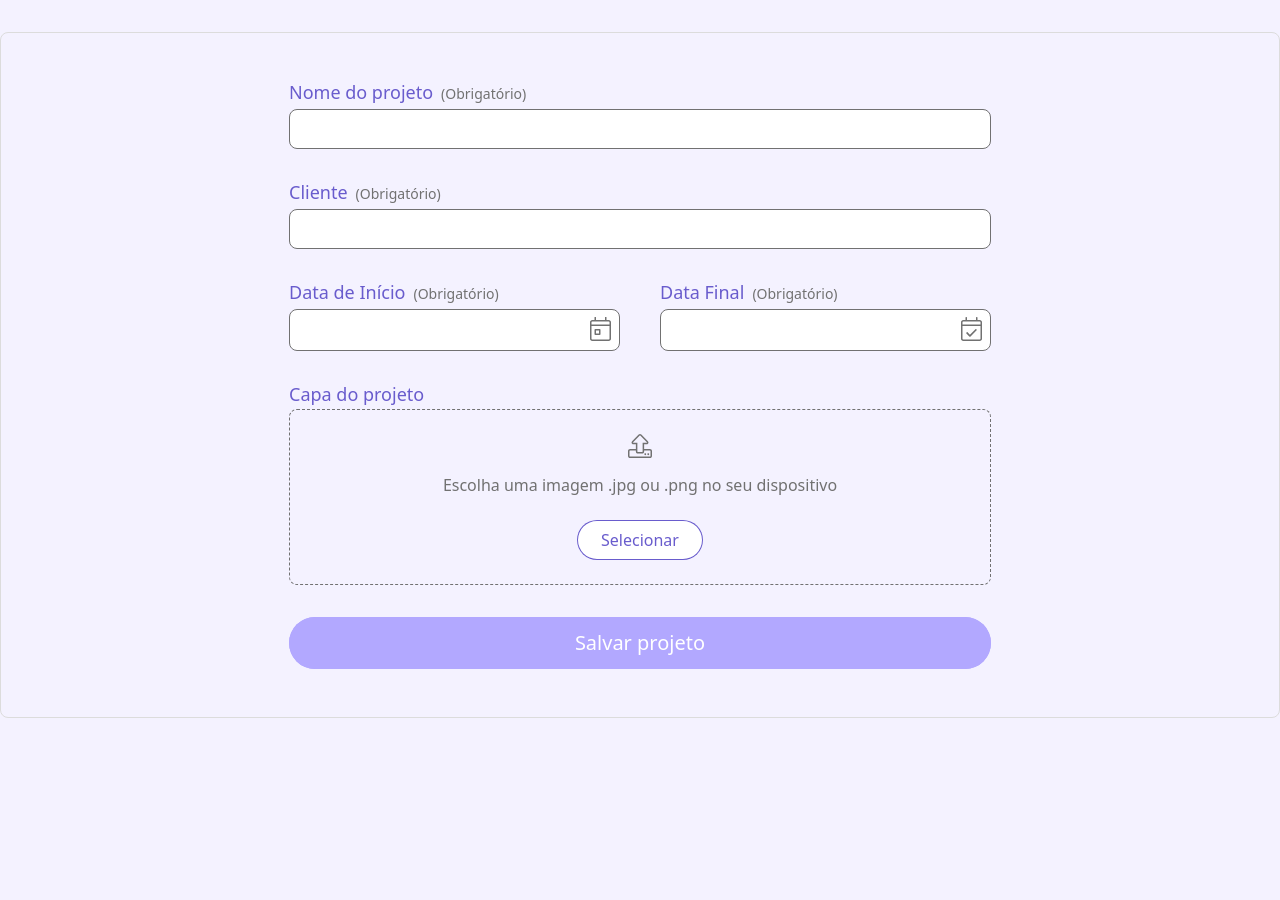
Test: ProjectForm - validation › refuses a single-word name
Type "Loja" into the field named "name". click: (640, 129)
box: [289,109,991,149]
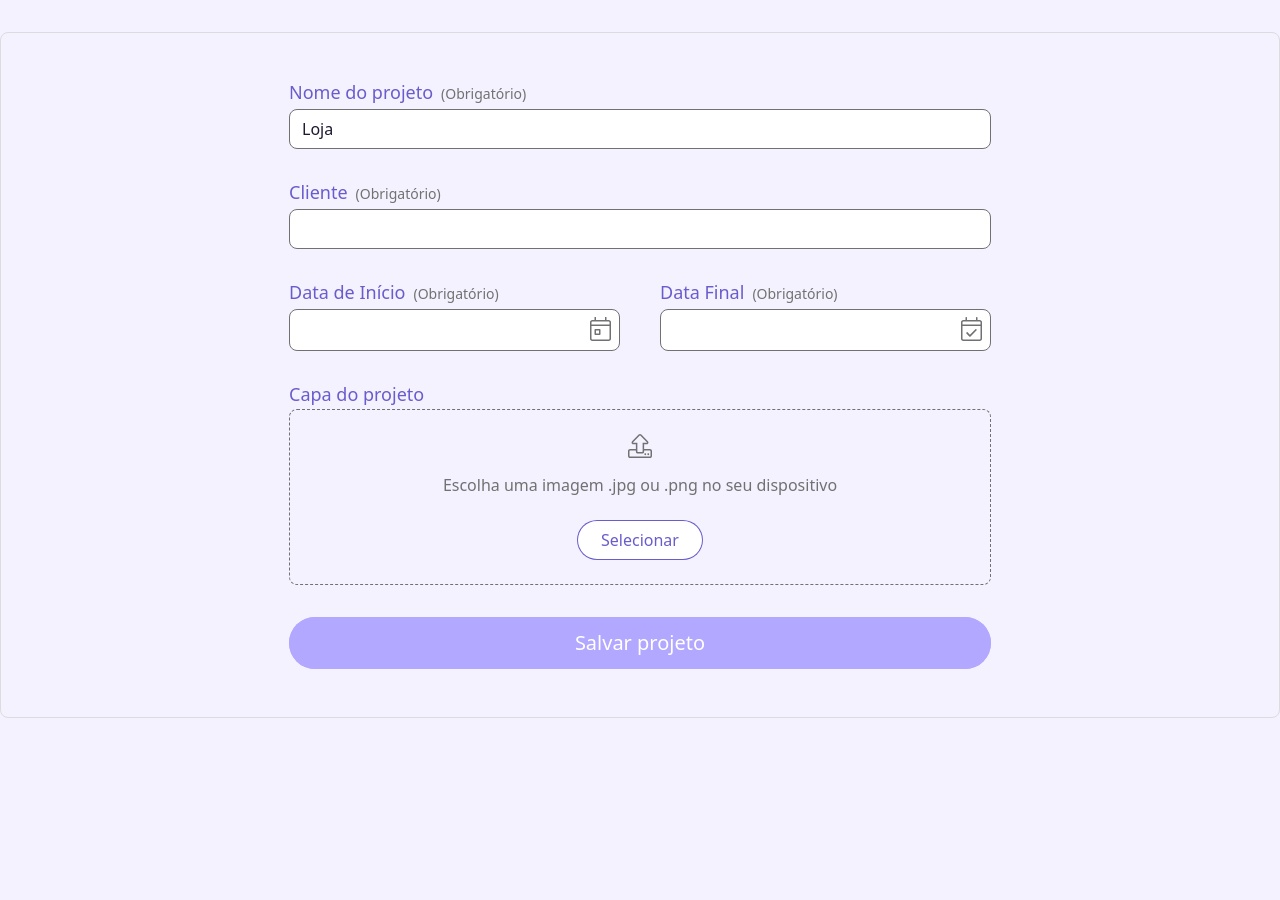
Type "Clicksign" into the field named "client". click: (640, 229)
box: [289,209,991,249]
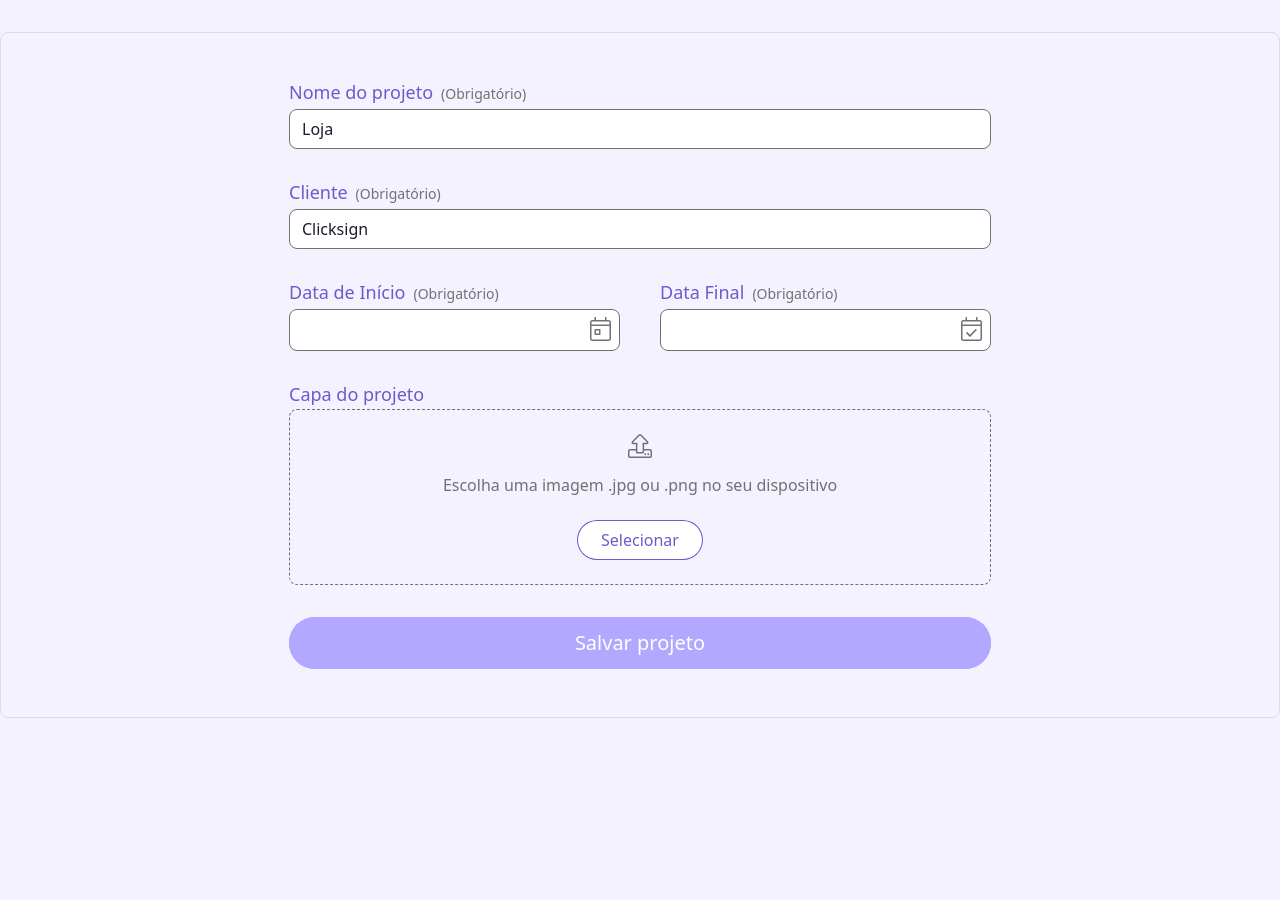
Type "2026-09-01" into the date field named "started_at". click: (454, 330)
box: [289,309,620,351]
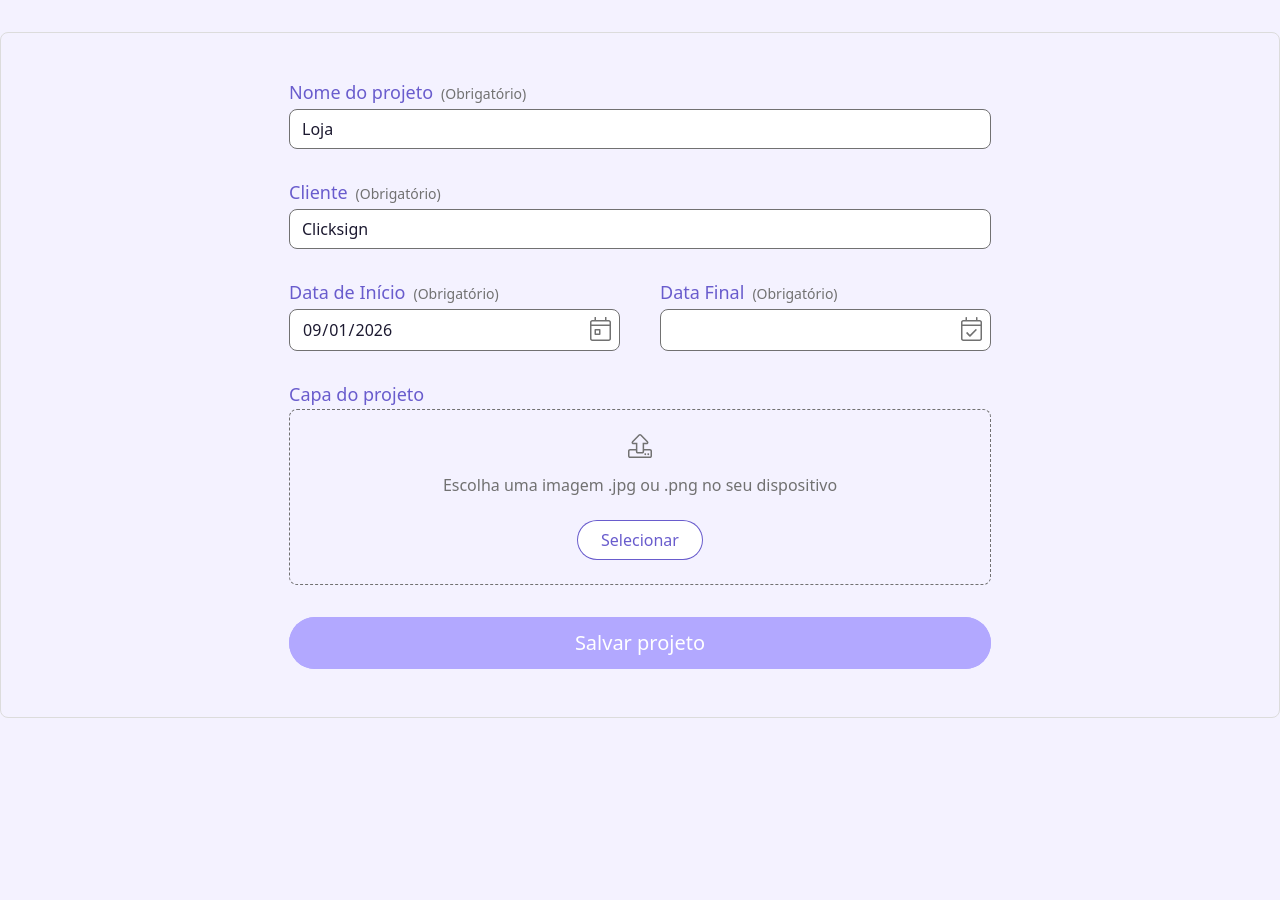
Type "2026-12-15" into the date field named "end_at". click: (826, 330)
box: [660,309,991,351]
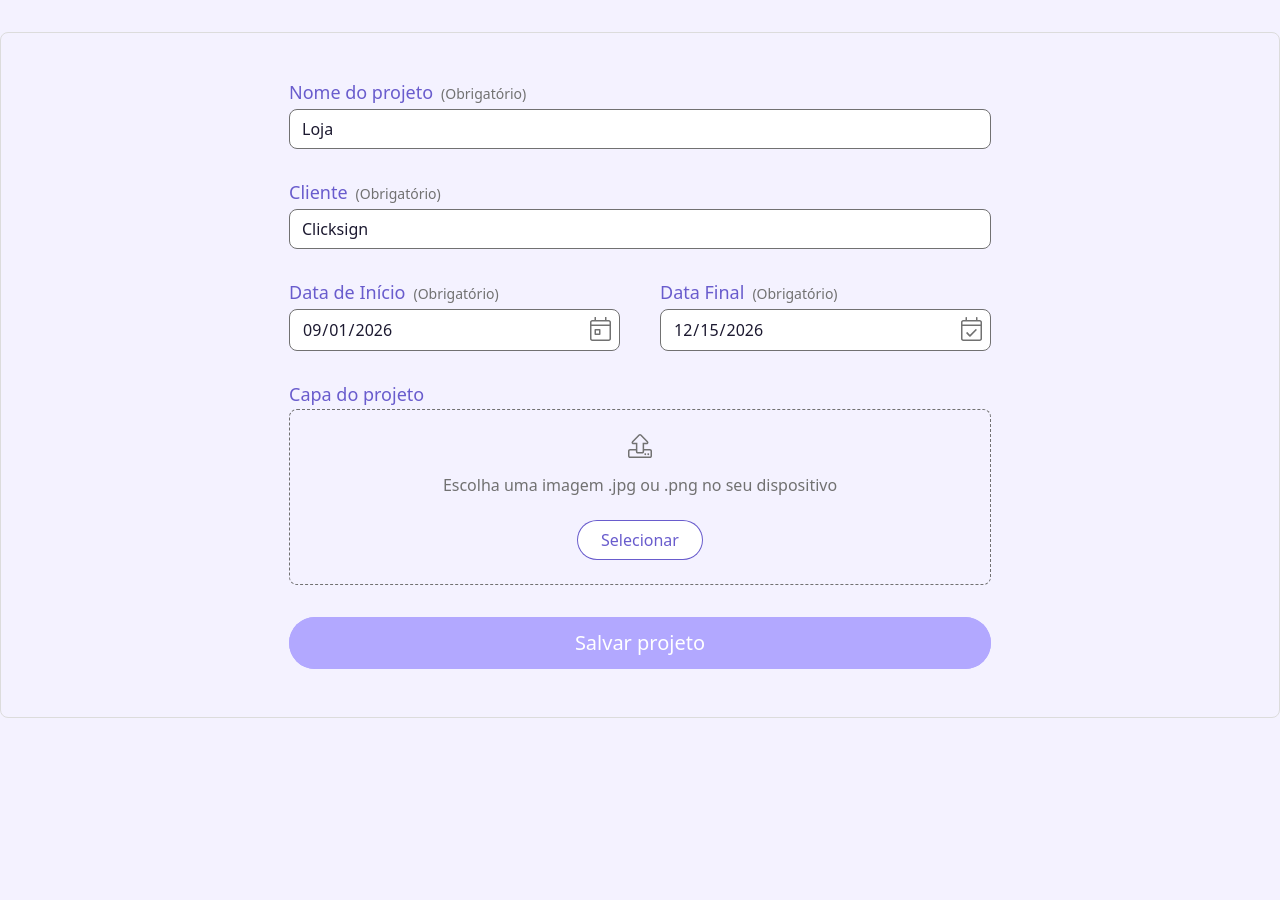
Submit the form, box [289,33,991,717]
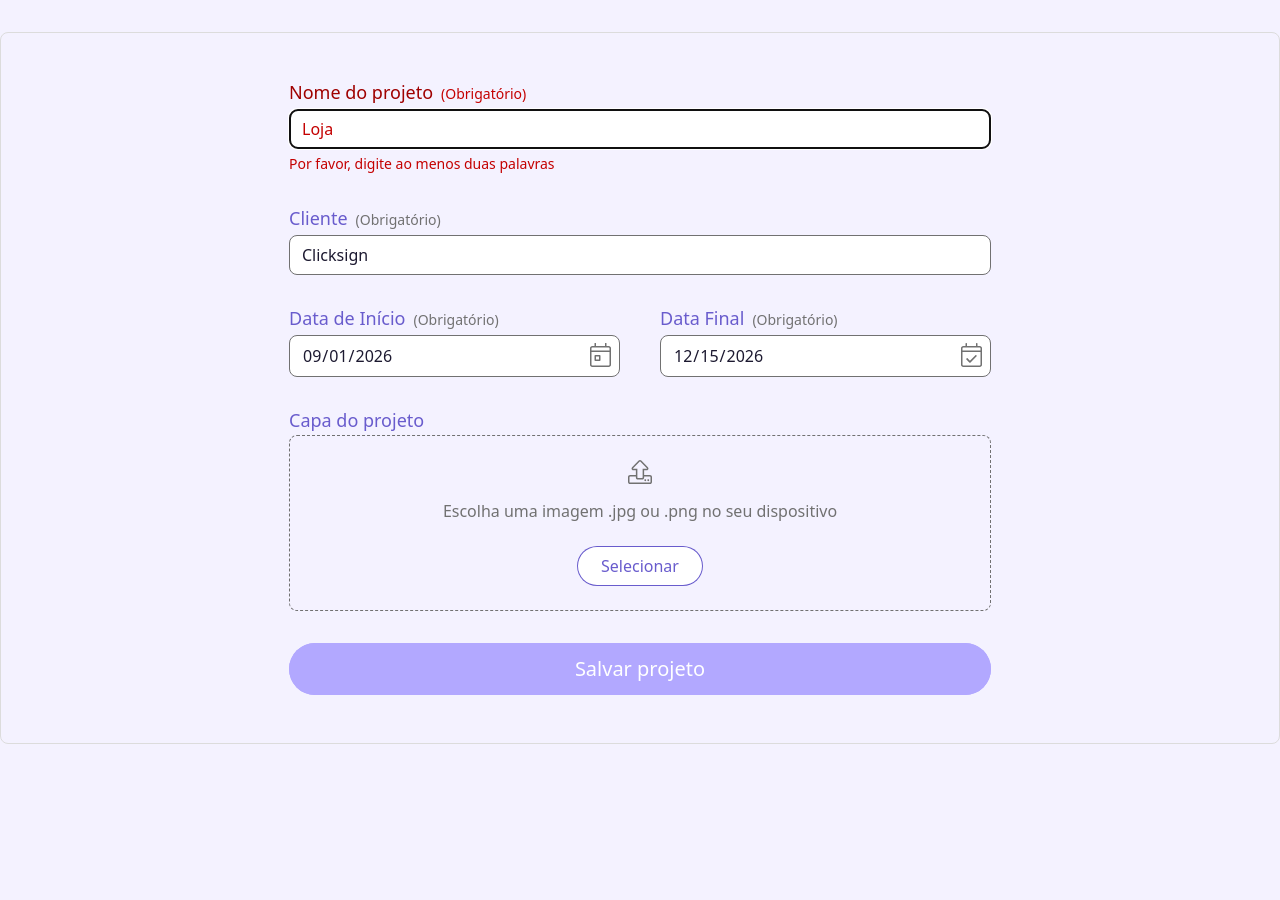
expect the message "Por favor, digite ao menos duas palavras" is shown: met, box [289,154,555,173]
